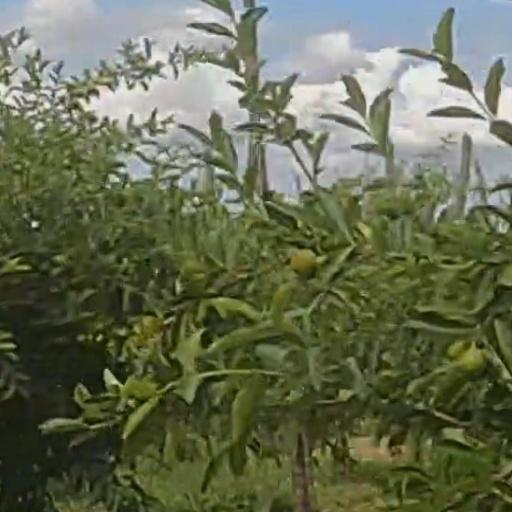acerola_vermelha: (290, 251, 315, 277)
